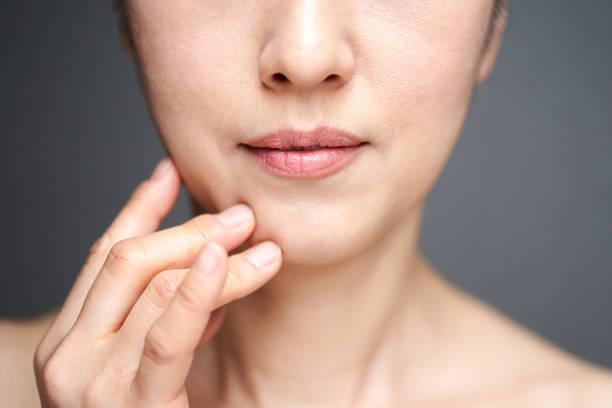Dry-Skin: (366, 3, 468, 173), (142, 18, 250, 154)
